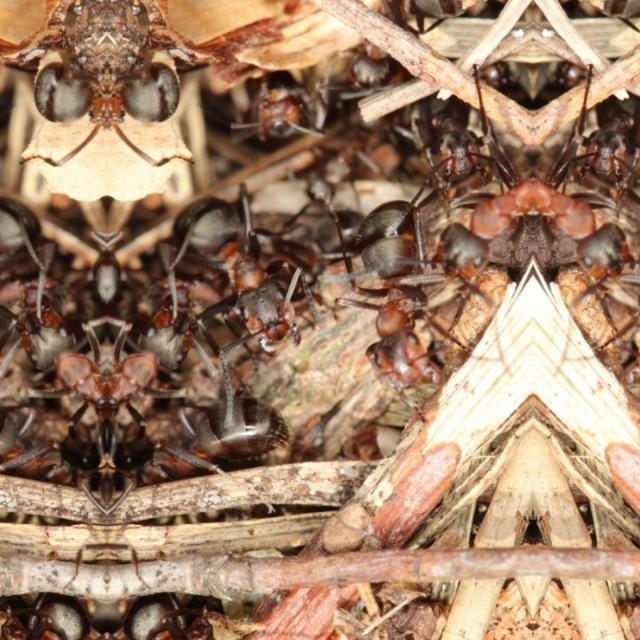Formica: (166, 182, 337, 362), (324, 188, 438, 404), (110, 383, 308, 483), (105, 272, 208, 428), (3, 272, 106, 428), (444, 144, 532, 298), (532, 144, 620, 298), (406, 78, 518, 194), (544, 78, 640, 192), (0, 383, 100, 483), (218, 56, 318, 154), (0, 182, 46, 360), (338, 16, 410, 94)
